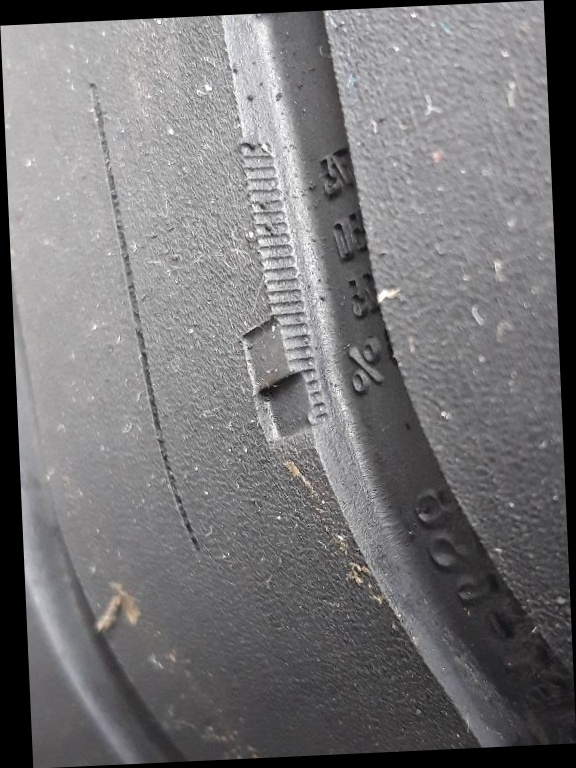temoin:25: (233, 299, 343, 458)
